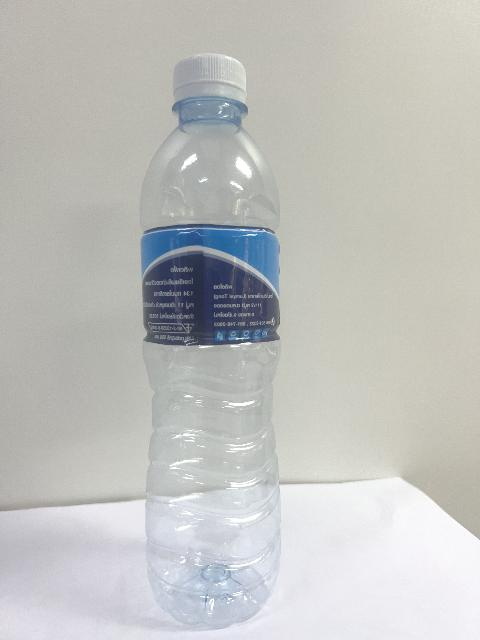bottle: (140, 54, 279, 627)
